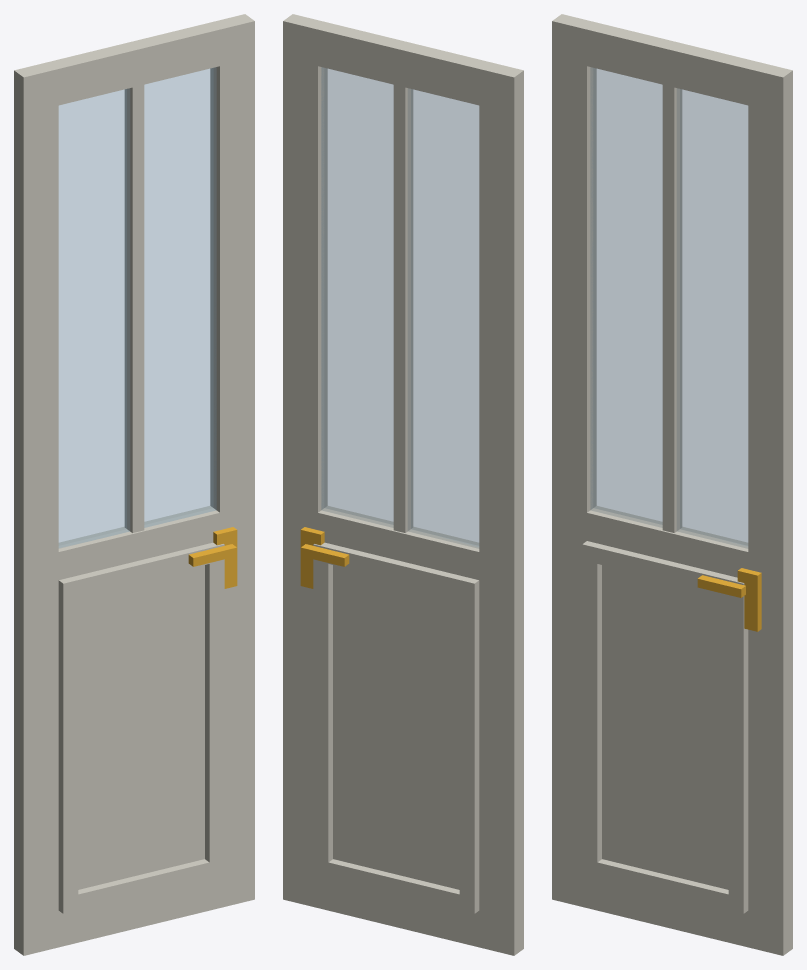
File: SM_Door_ra_70x251.fbx
3 renders of one model, left to right at view 1: azimuth 30°, elevation 25°; view 2: azimuth 150°, elevation 25°; view 3: azimuth 330°, elevation 25°, orthographic.
Parts seen in each view (by area): view 1: SM_Door_ra_70x251; view 2: SM_Door_ra_70x251; view 3: SM_Door_ra_70x251.
Boxes of the visible parts, <box> form: SM_Door_ra_70x251: <box>14,14,254,955</box>; SM_Door_ra_70x251: <box>283,14,523,955</box>; SM_Door_ra_70x251: <box>552,14,792,955</box>.
Size of the model in its own units: 0.688 by 2.5 by 0.175.
